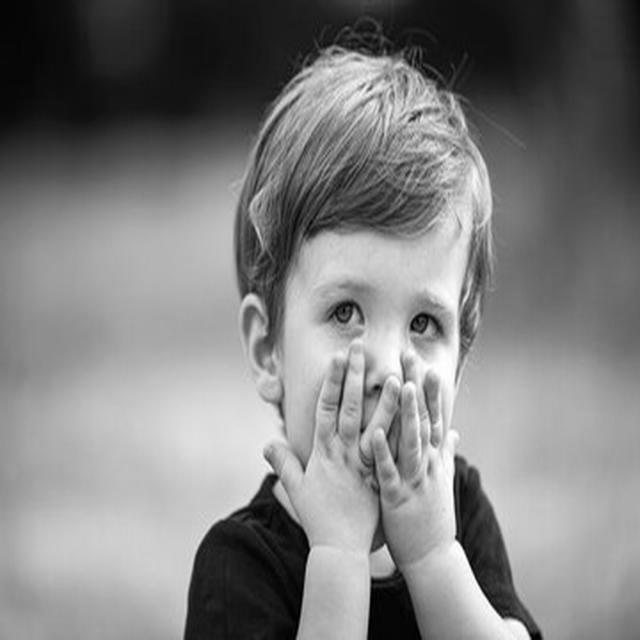Fear: (289, 217, 459, 473)
